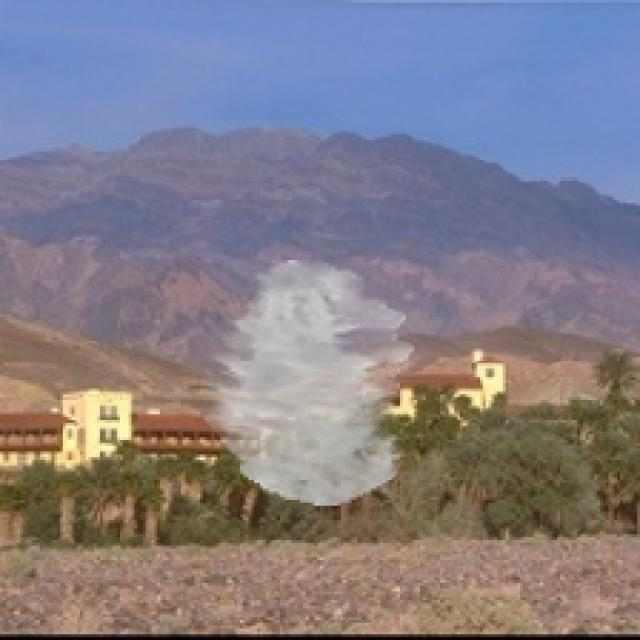smoke: (200, 260, 414, 506)
